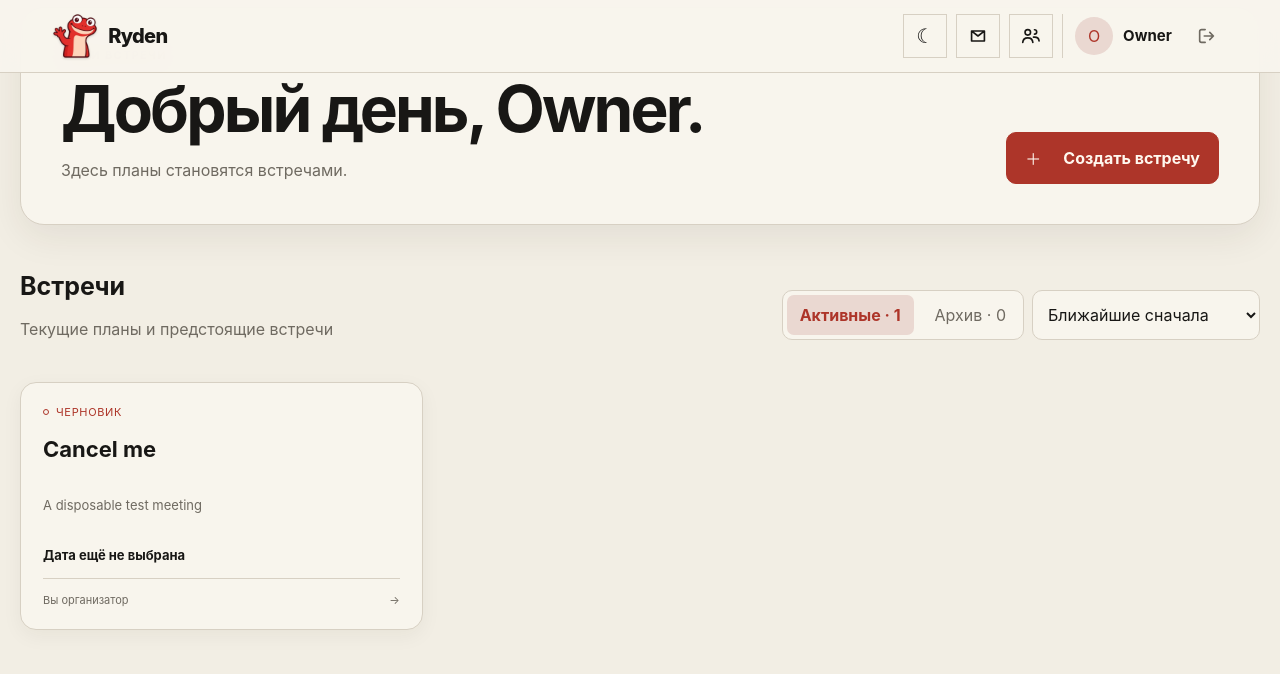
Test: App › requires two steps to cancel and then renders a read-only record
The width and height of the screenshot is (1280, 674).
(page scrolled)
What coordinates should you click on to do the following:
click the button "Cancel me"
I would click on:
 (89, 412)
Its box is 20,382 -> 423,630.
(page scrolled)
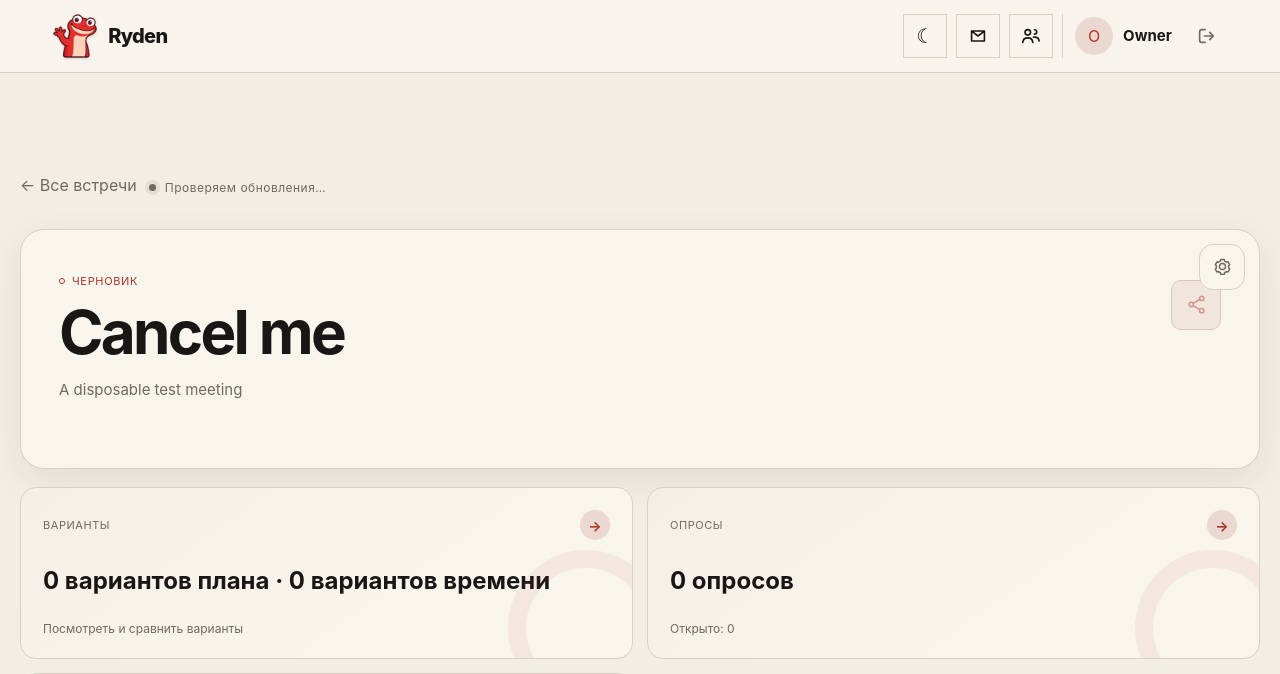
Result: the heading "Cancel me" is shown at 59,296 -> 344,369
What coordinates should you click on to do the following:
click the button named "Управление встречей"
I would click on:
 (1222, 267)
Its box is 1199,244 -> 1245,290.
(page scrolled)
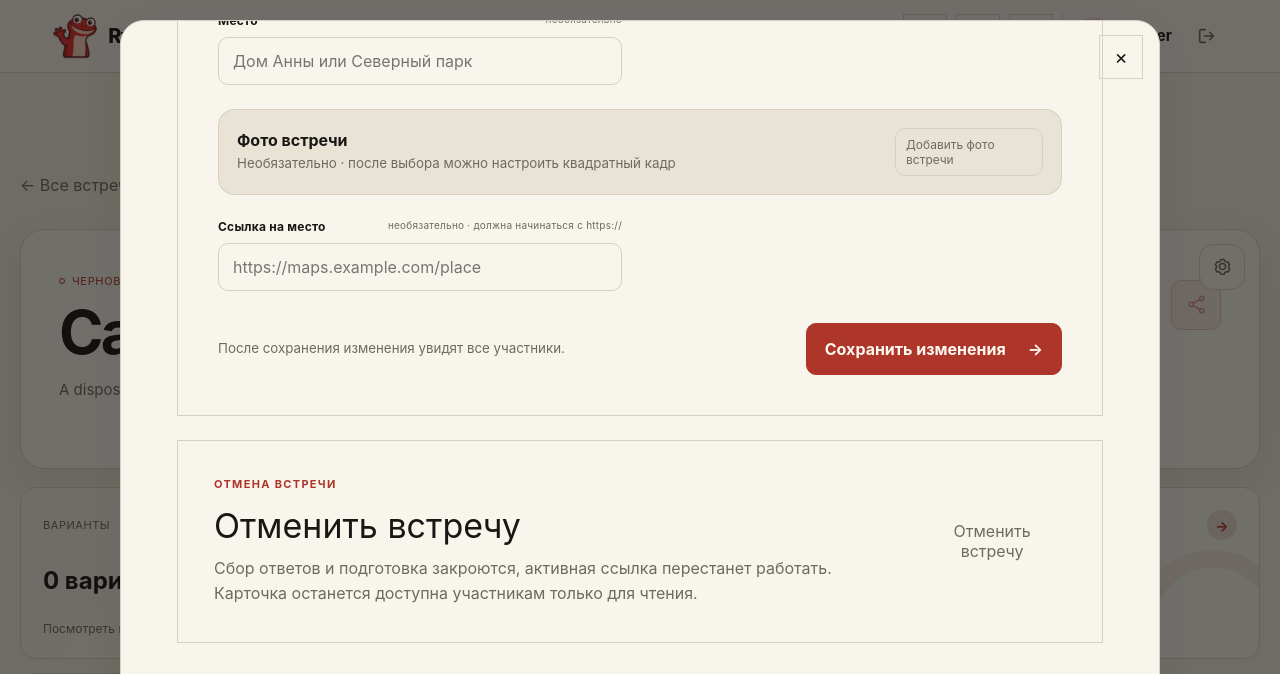
What coordinates should you click on to do the following:
click the button "Отменить встречу"
I would click on:
 (992, 541)
Its box is 918,513 -> 1066,569.
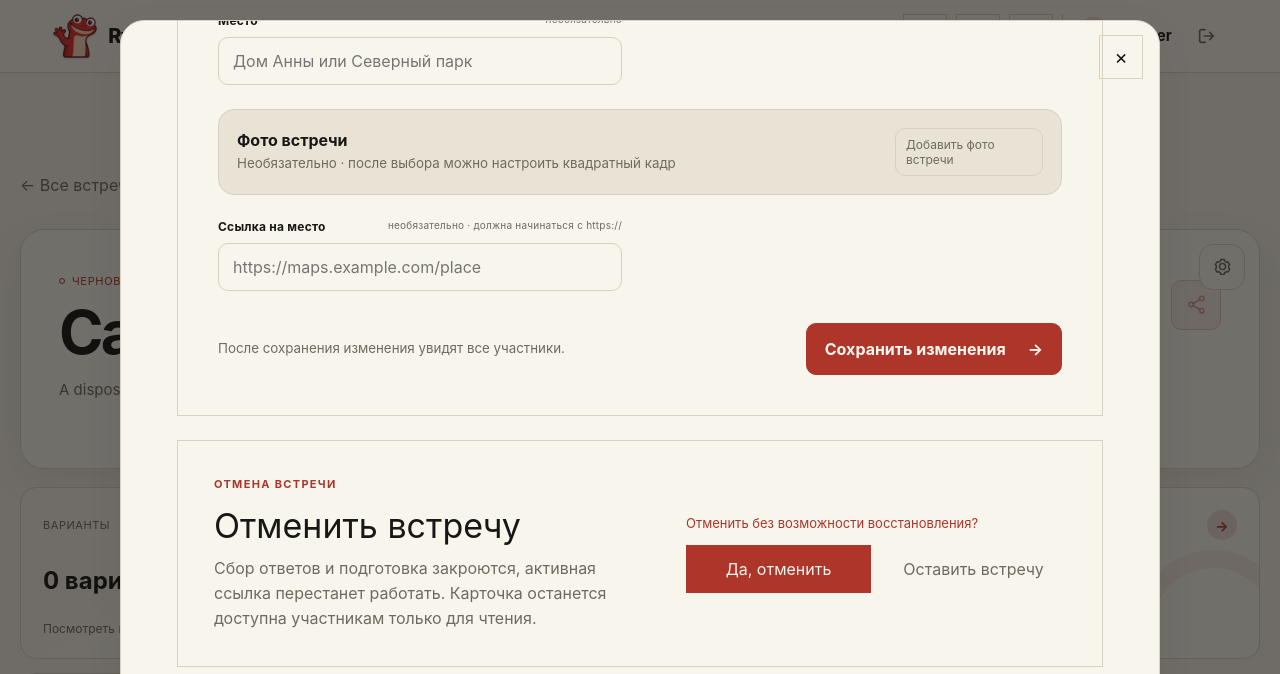
Result: the button "Да, отменить" is shown
Result: the button "Оставить встречу" is shown at 881,545 -> 1066,593
What coordinates should you click on to do the following:
click the button "Да, отменить"
I would click on:
 (778, 569)
Its box is 686,545 -> 871,593.
(page scrolled)
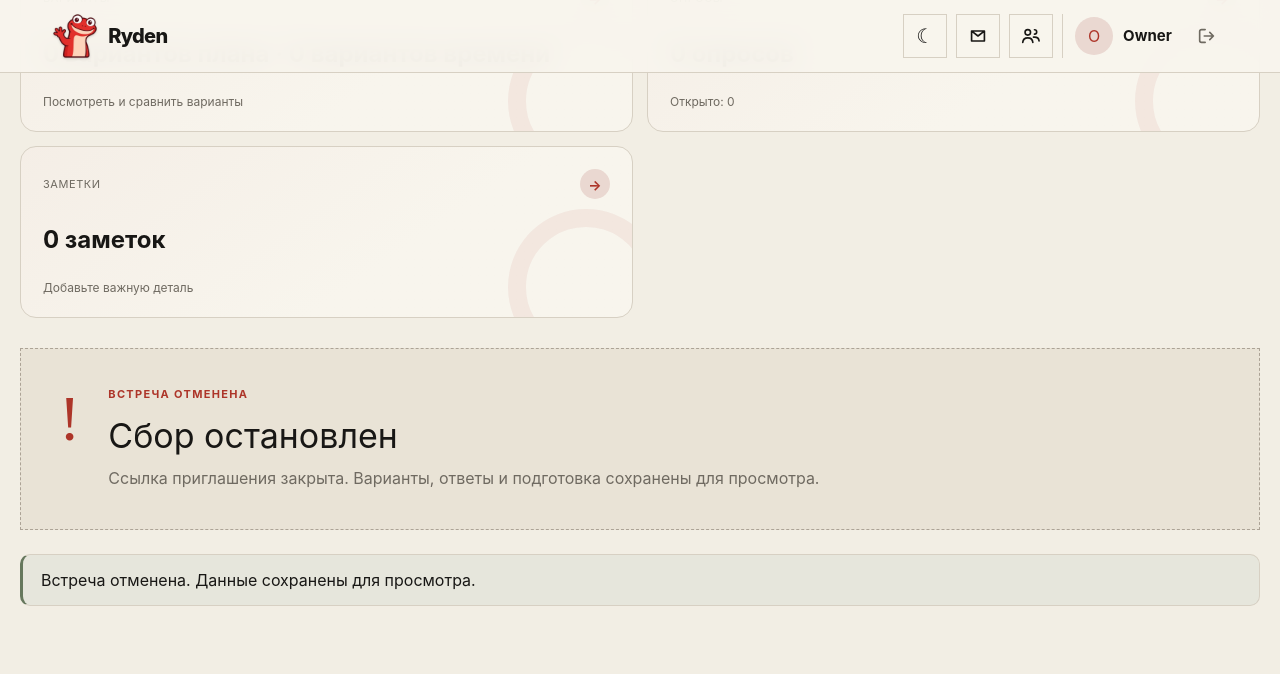
Result: the heading "Сбор остановлен" is shown at 108,415 -> 398,456
Result: the heading "Отменить встречу" is gone
Result: the text "Ссылка приглашения закрыта. Варианты, ответы и подготовка сохранены для просмотра." is shown at 108,468 -> 820,488
